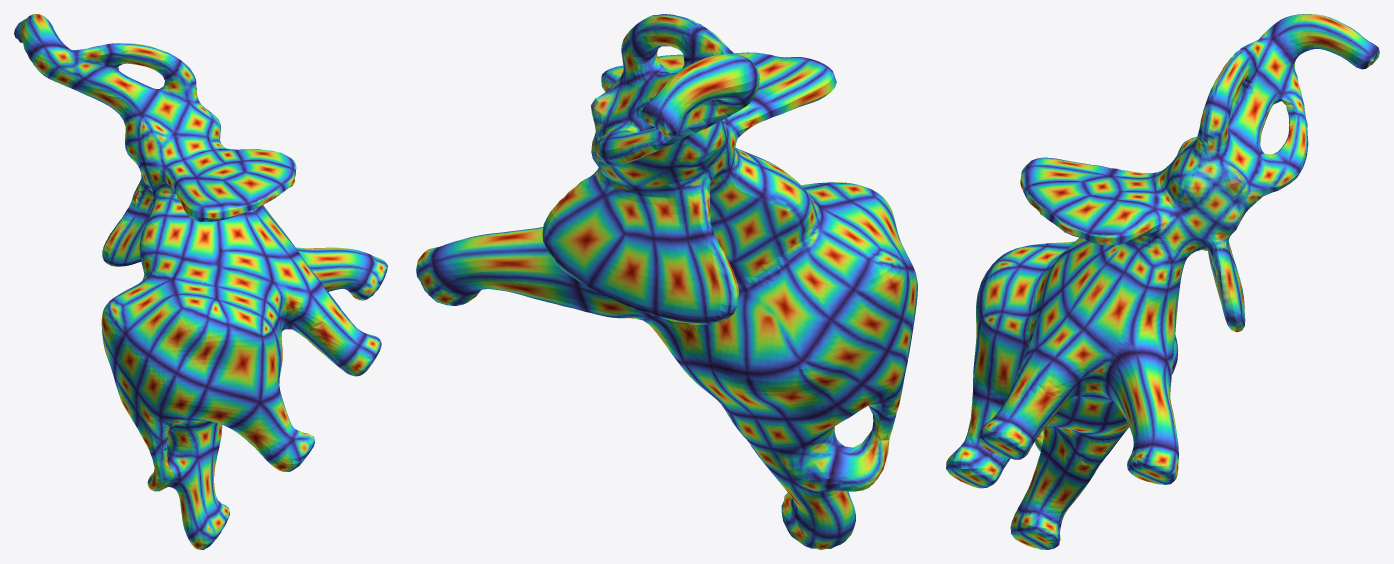
Rendered from gen2.glb.
3 views of the same model, side by side, from view 1: azimuth 30°, elevation 25°; view 2: azimuth 150°, elevation 25°; view 3: azimuth 270°, elevation 25° (orthographic). The views are drawn at different scales.
Parts seen in each view (by area): view 1: Node; view 2: Node; view 3: Node.
Boxes of the visible parts, left/top/right/bottom form: Node: left=14, top=14, right=387, bottom=549; Node: left=416, top=14, right=917, bottom=549; Node: left=946, top=14, right=1379, bottom=549.
Size of the model in its own units: 0.7021 by 0.9675 by 0.745.
Materials: 1 (1 with a texture image).
